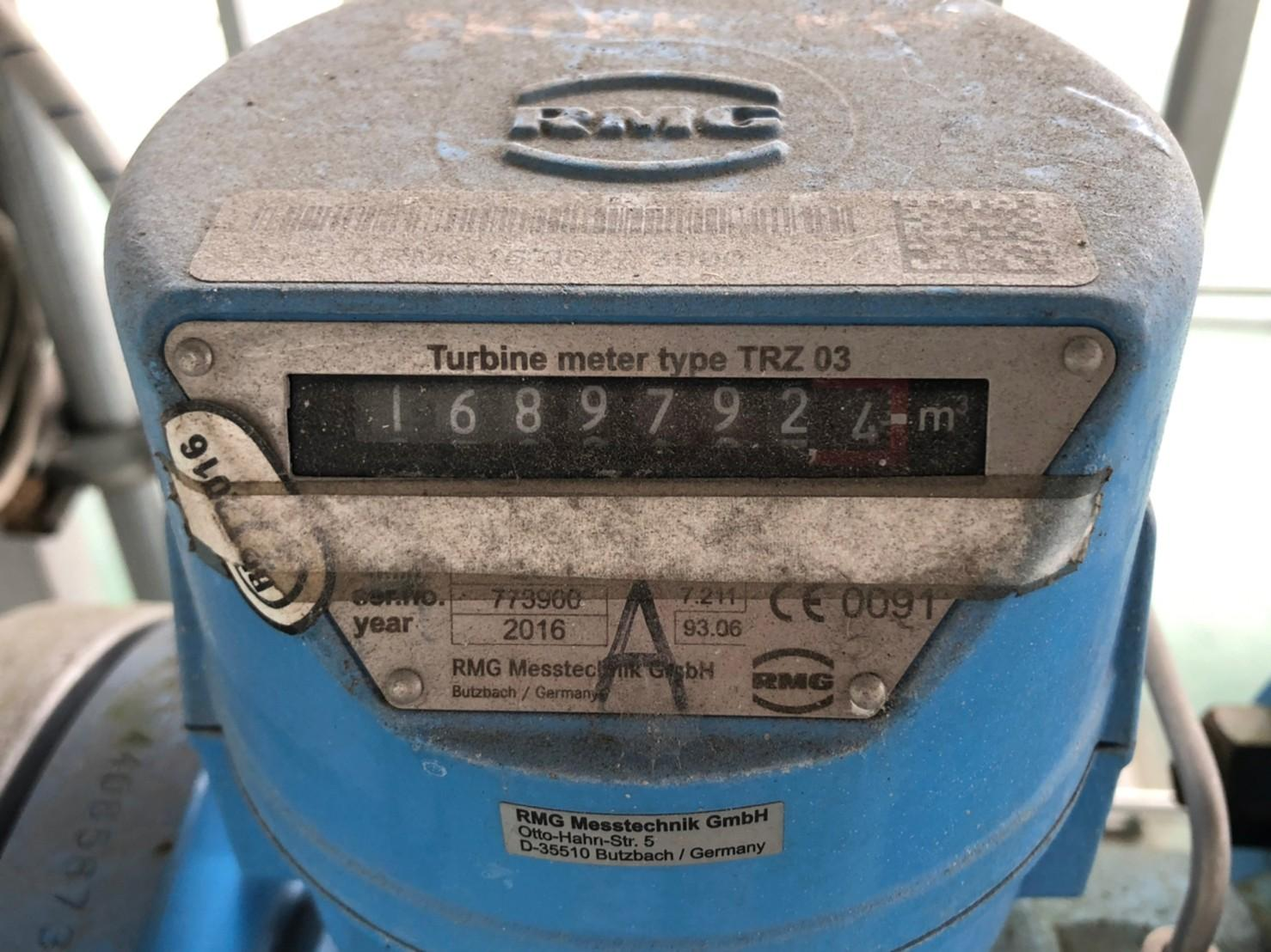analog_dial: (285, 375, 988, 479)
